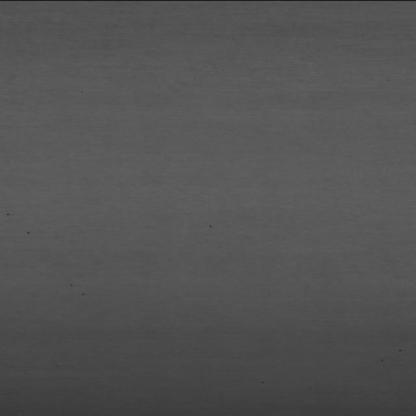inclusion: (62, 281, 89, 296), (20, 228, 36, 236), (4, 210, 16, 218)
